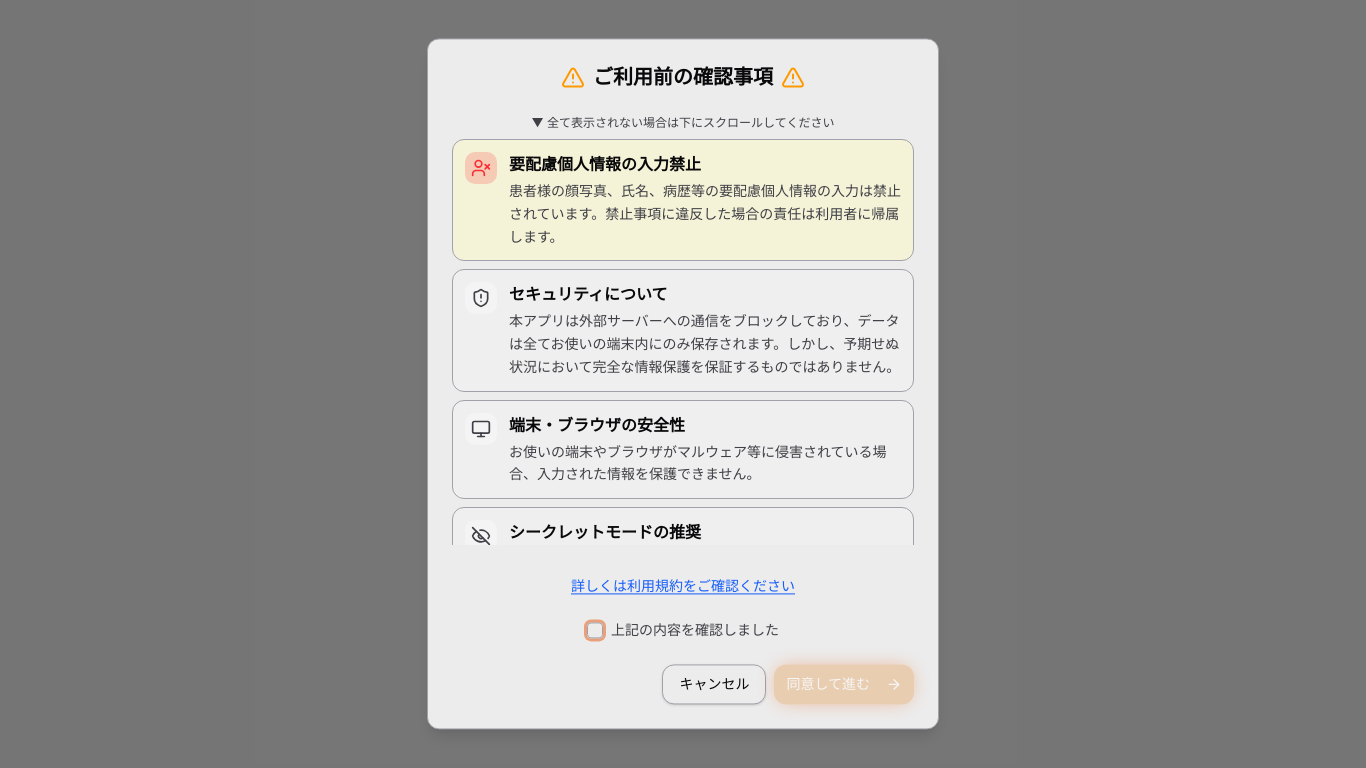
Test: SecurityDisclaimerModal › チェックボックス › チェックボックスをONにすると同意ボタンが有効になる
Click the checkbox named "上記の内容を確認しました". click: [595, 631]
box: [587, 623, 603, 639]
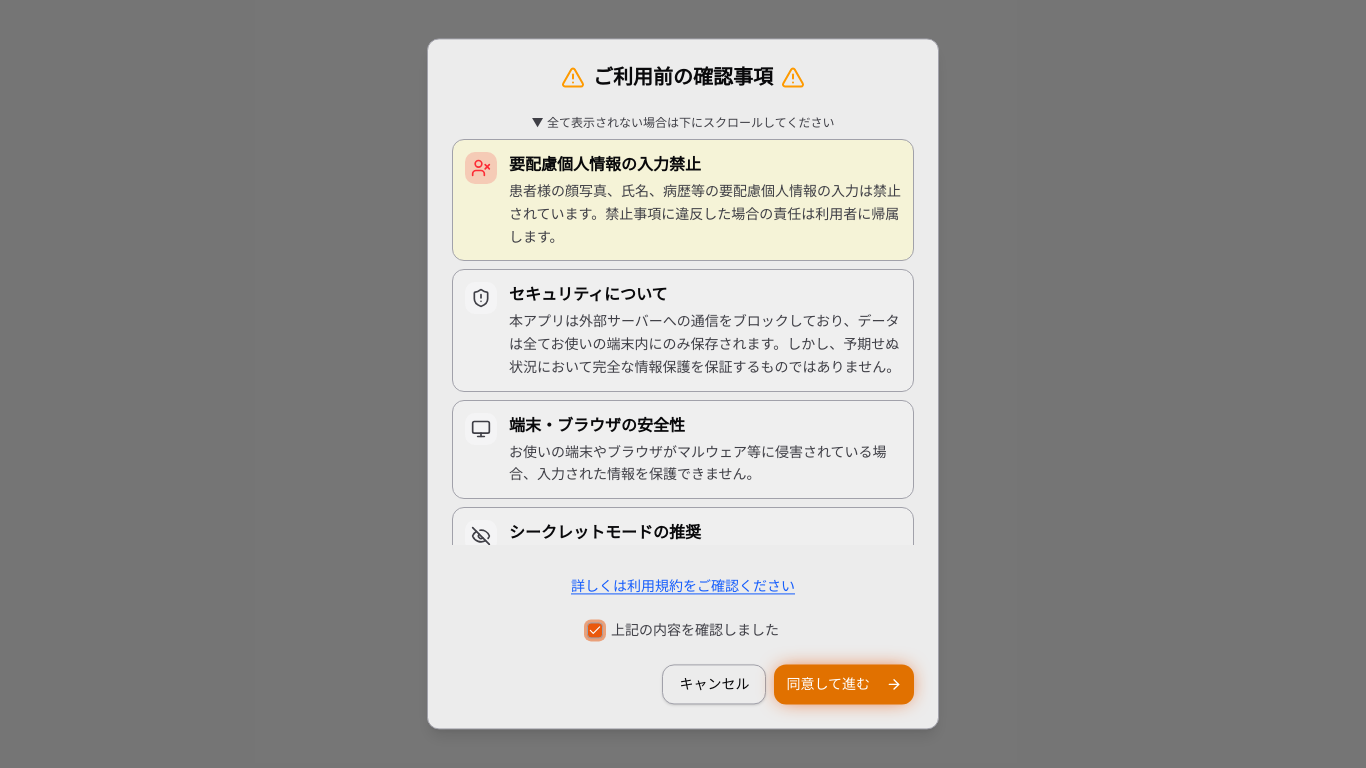
Result: the button "同意して進む" is enabled at [774, 665, 914, 705]
